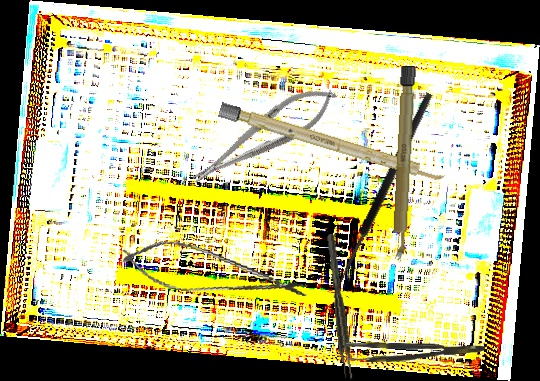Hook Surgical: (332, 91, 443, 299)
Micro Scissor: (115, 232, 314, 313)
Needle Holder: (182, 74, 345, 197)
Scalpel Handle: (217, 102, 447, 185), (389, 65, 417, 261)
Tissue Forceps: (326, 233, 355, 381), (344, 341, 486, 365)
